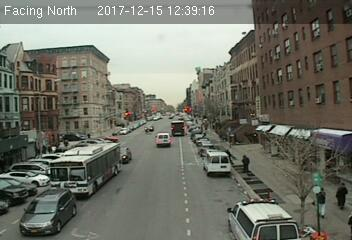bus: (49, 144, 121, 196)
car: (18, 188, 76, 237), (118, 145, 133, 164)
pedestrian: (334, 178, 349, 213), (314, 186, 328, 220), (241, 154, 251, 175)
police: (227, 198, 303, 240)
truck: (202, 151, 233, 178), (154, 132, 172, 147)
ups: (170, 120, 185, 137)
